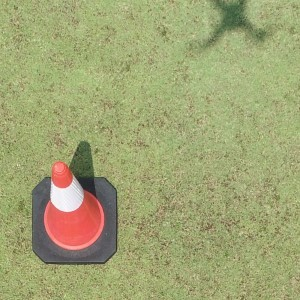traffic cone: (32, 162, 117, 264)
